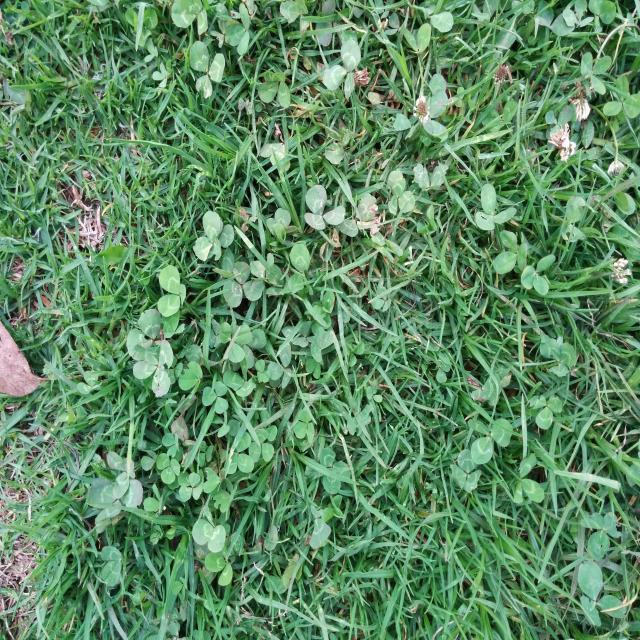Four Leaf Clover: (192, 211, 234, 262)
